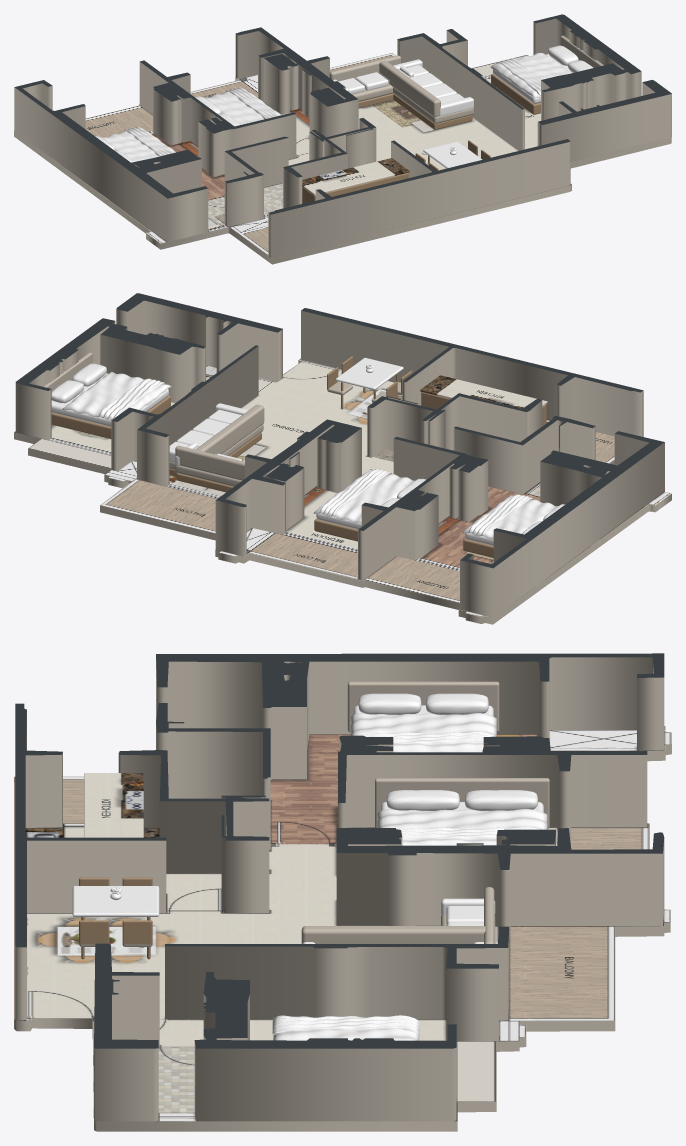
3 renders of one model, top to bottom at view 1: azimuth 30°, elevation 25°; view 2: azimuth 150°, elevation 25°; view 3: azimuth 270°, elevation 25°, orthographic. The views are drawn at different scales.
Parts seen in each view (by area): view 1: Partition walls, Apartment floor, Stone worktop, Sofa back, Draped bed linen, Draped bed linen.002, Draped bed linen.004, Marble dining top, Sofa back.001, Kitchen cabinets, Draped bed linen.001, Walnut upholstered base (+8 smaller); view 2: Partition walls, Apartment floor, Draped bed linen, Stone worktop, Draped bed linen.002, Draped bed linen.004, Sofa back, Sofa back.001, Marble dining top, Walnut upholstered base, Draped bed linen.003, Draped bed linen.001 (+7 smaller); view 3: Partition walls, Apartment floor, Stone worktop, Draped bed linen.002, Draped bed linen.004, Sofa back, Upholstered headboard.001, Upholstered headboard.002, Marble dining top, Draped bed linen.001, Draped bed linen, Tailored pillow.002 (+7 smaller).
Part boxes in pixels (x1=…): Partition walls: x1=14, y1=14, x2=671, y2=258; Apartment floor: x1=14, y1=53, x2=671, y2=264; Stone worktop: x1=302, y1=158, x2=409, y2=195; Sofa back: x1=379, y1=60, x2=440, y2=116; Draped bed linen: x1=490, y1=53, x2=571, y2=97; Draped bed linen.002: x1=204, y1=88, x2=280, y2=124; Draped bed linen.004: x1=101, y1=128, x2=175, y2=161; Marble dining top: x1=423, y1=141, x2=482, y2=168; Sofa back.001: x1=329, y1=55, x2=401, y2=81; Kitchen cabinets: x1=302, y1=173, x2=408, y2=203; Draped bed linen.001: x1=496, y1=58, x2=542, y2=95; Walnut upholstered base: x1=491, y1=74, x2=540, y2=114; Partition walls: x1=15, y1=293, x2=664, y2=617; Apartment floor: x1=14, y1=358, x2=671, y2=624; Draped bed linen: x1=62, y1=371, x2=171, y2=420; Stone worktop: x1=420, y1=375, x2=547, y2=408; Draped bed linen.002: x1=313, y1=469, x2=414, y2=522; Draped bed linen.004: x1=462, y1=494, x2=558, y2=539; Sofa back: x1=196, y1=404, x2=264, y2=454; Sofa back.001: x1=175, y1=445, x2=244, y2=480; Marble dining top: x1=335, y1=357, x2=403, y2=390; Walnut upholstered base: x1=51, y1=395, x2=170, y2=438; Draped bed linen.003: x1=318, y1=469, x2=391, y2=516; Draped bed linen.001: x1=98, y1=378, x2=165, y2=419; Partition walls: x1=15, y1=653, x2=664, y2=1121; Apartment floor: x1=14, y1=726, x2=671, y2=1131; Stone worktop: x1=84, y1=773, x2=143, y2=837; Draped bed linen.002: x1=377, y1=809, x2=547, y2=845; Draped bed linen.004: x1=350, y1=713, x2=496, y2=752; Sofa back: x1=301, y1=926, x2=485, y2=943; Upholstered headboard.001: x1=375, y1=778, x2=549, y2=828; Upholstered headboard.002: x1=347, y1=681, x2=499, y2=732; Marble dining top: x1=72, y1=886, x2=159, y2=916; Draped bed linen.001: x1=272, y1=1015, x2=419, y2=1036; Draped bed linen: x1=273, y1=1015, x2=419, y2=1040; Tailored pillow.002: x1=386, y1=790, x2=459, y2=810.
Size of the model in its own units: 13.49 by 1.3 by 9.37.
9 materials, 1 textured.
